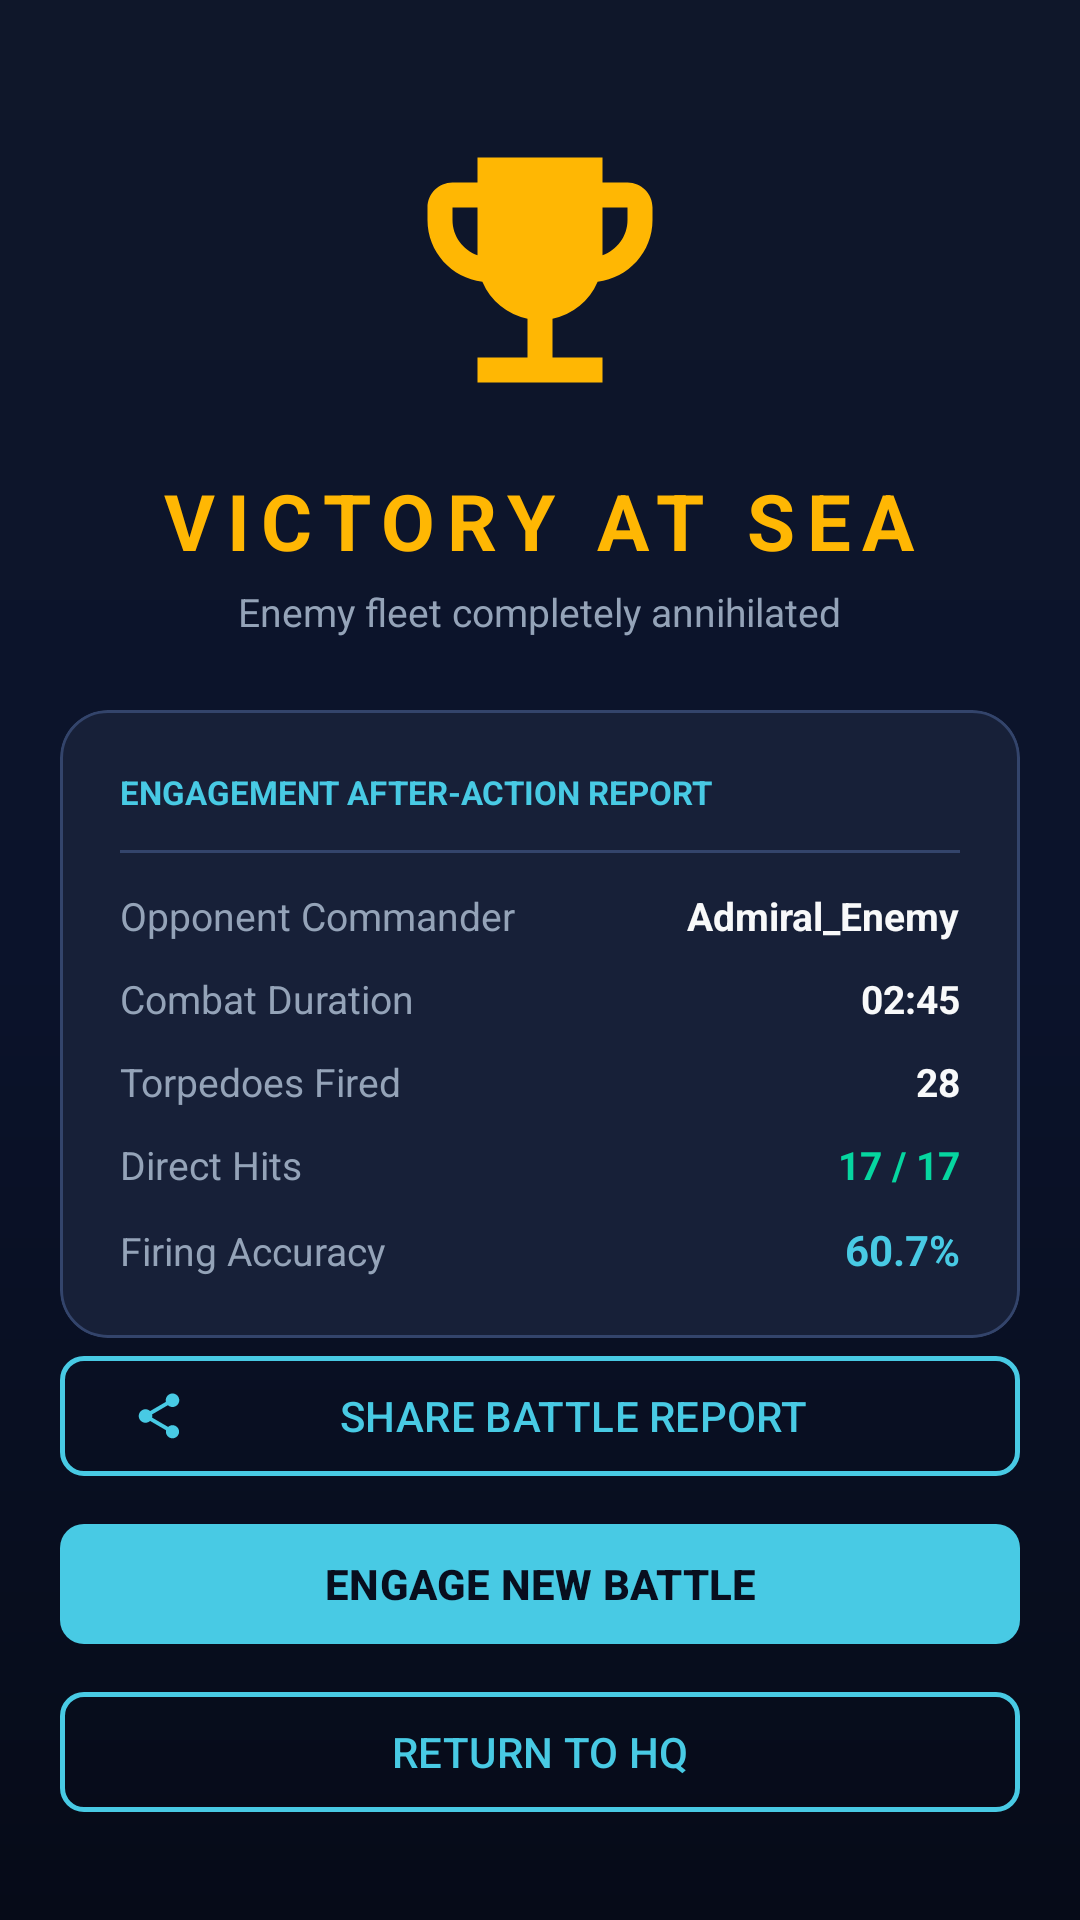

Icon click points for this 1080x1920 phone screenshot, format [x,y]:
trophy: [540,270]
